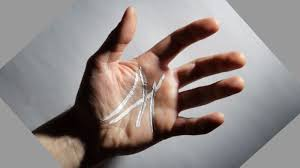palm: (89, 59, 178, 138)
